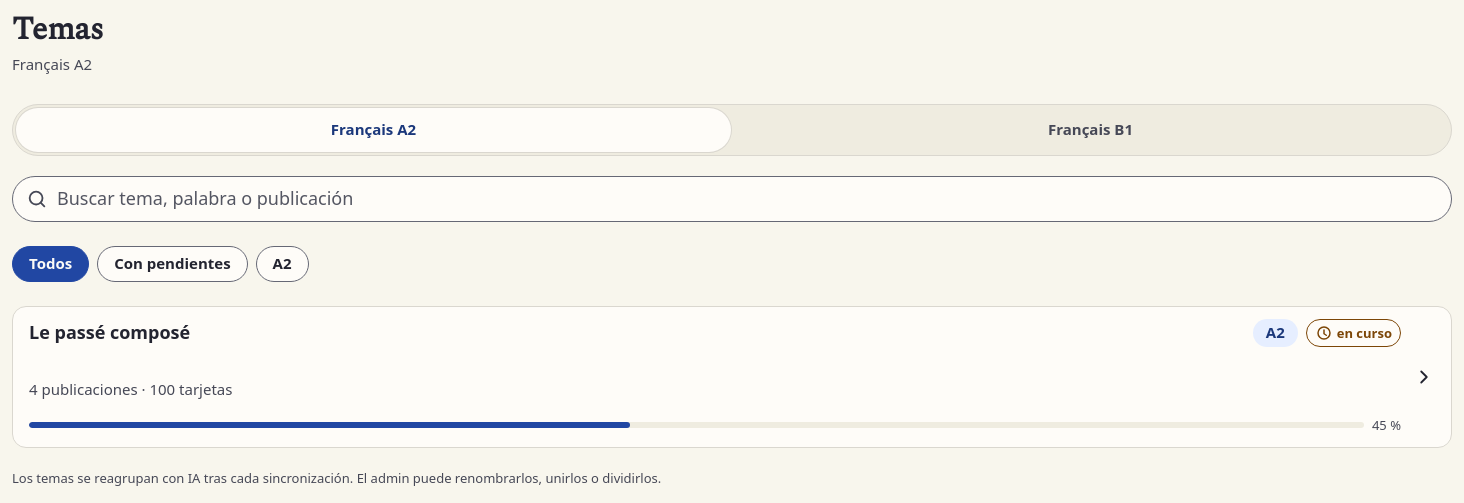
con varios cursos recuerda la elección en localStorage
Later steps or results of the test are not shown.
Expected: the element named "Curso" is shown, [12,104,1452,156]
Click the radio button labelled "Français B1" at (1090, 130), box [733,108,1448,152]
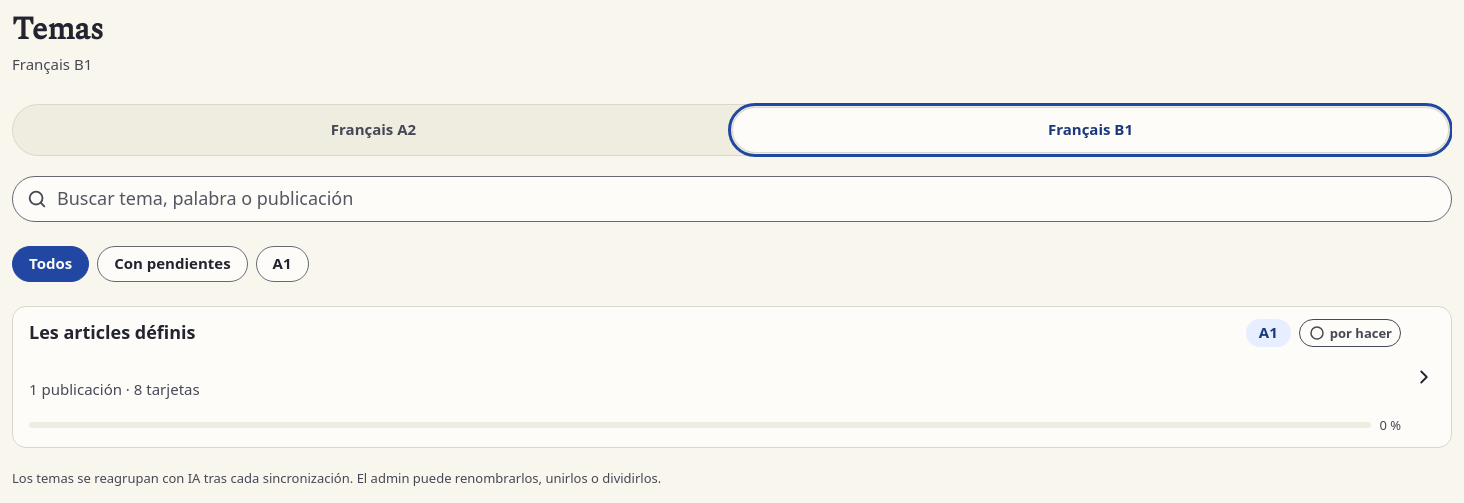
Now the text "Les articles définis" is shown, box [29,319,196,347]
